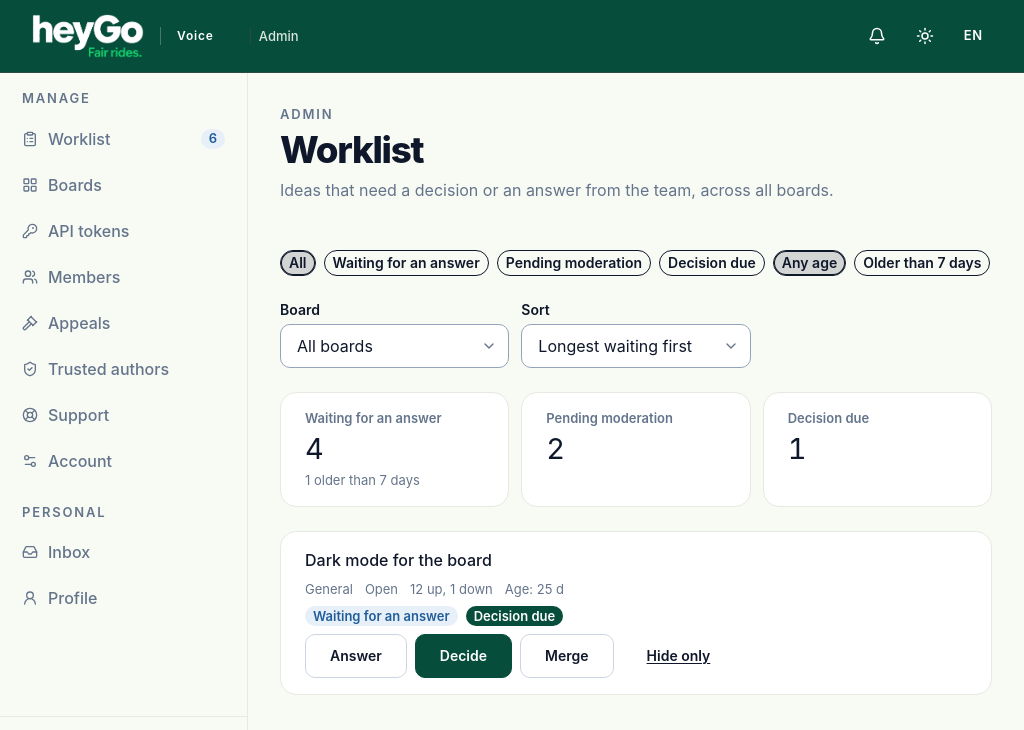
it: WorklistPage — filters › resets every filter with the reset button
The image size is (1024, 730).
Expected: the list item with test id "worklist-row-11" is shown, [305,550,735,678]
Click the button with test id "worklist-filter-reason-unanswered".
click(406, 263)  # box [324,250,489,276]
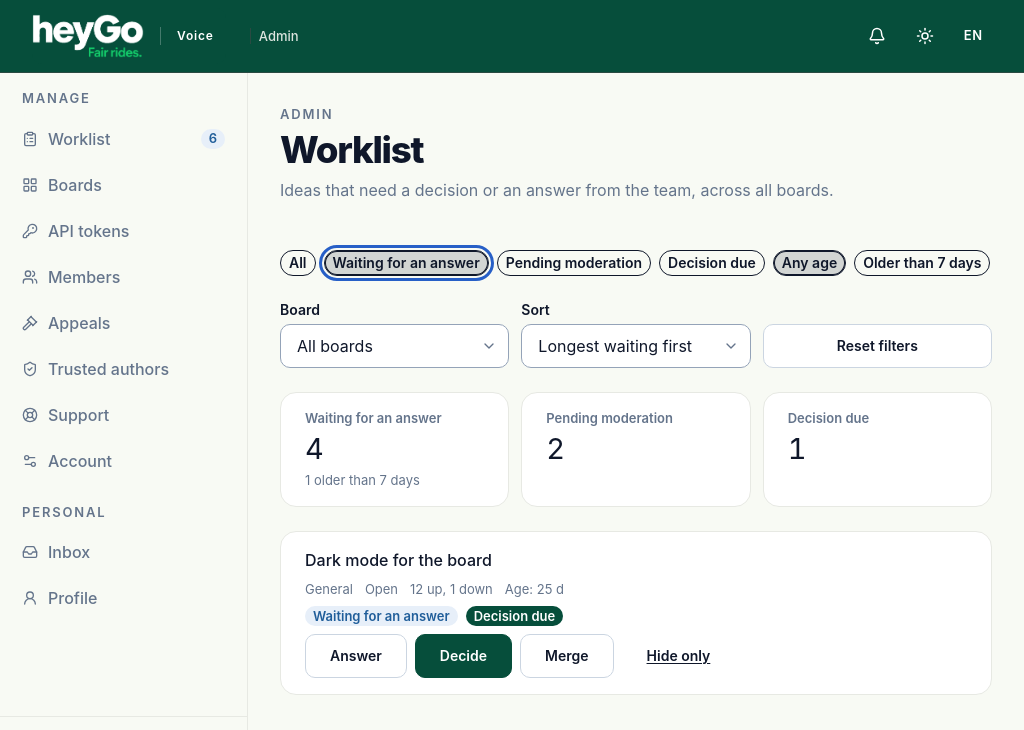
Expected: the button with test id "worklist-filter-reset" is shown
Click the button with test id "worklist-filter-reset".
click(877, 346)  # box [763,324,992,368]
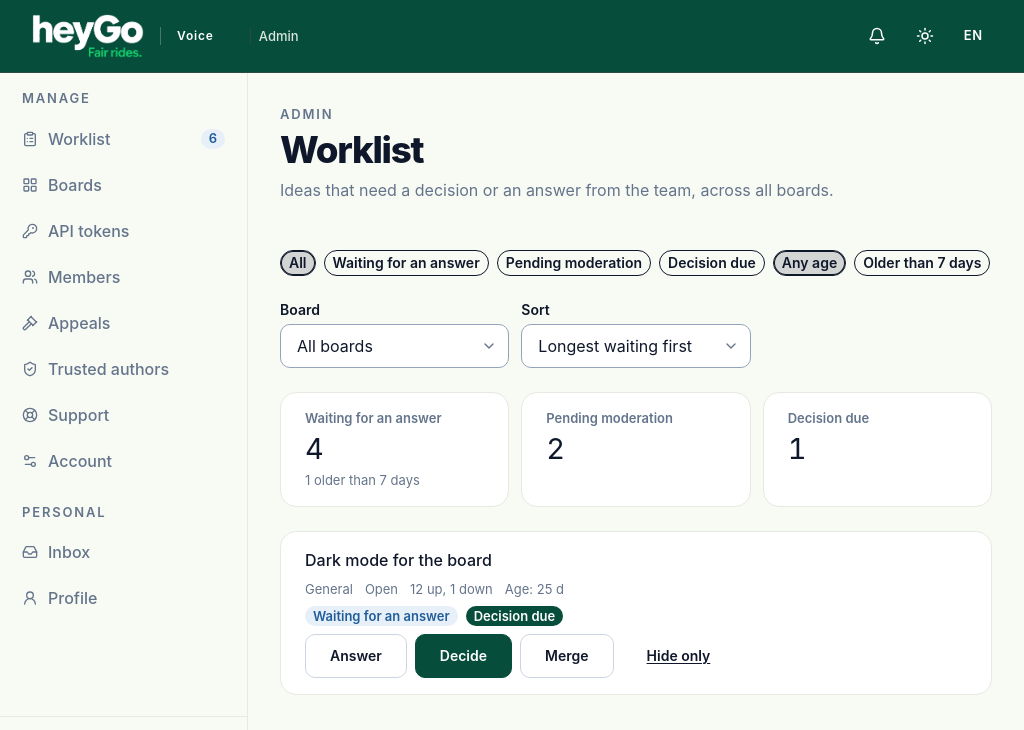
Expected: the button with test id "worklist-filter-reset" is gone
